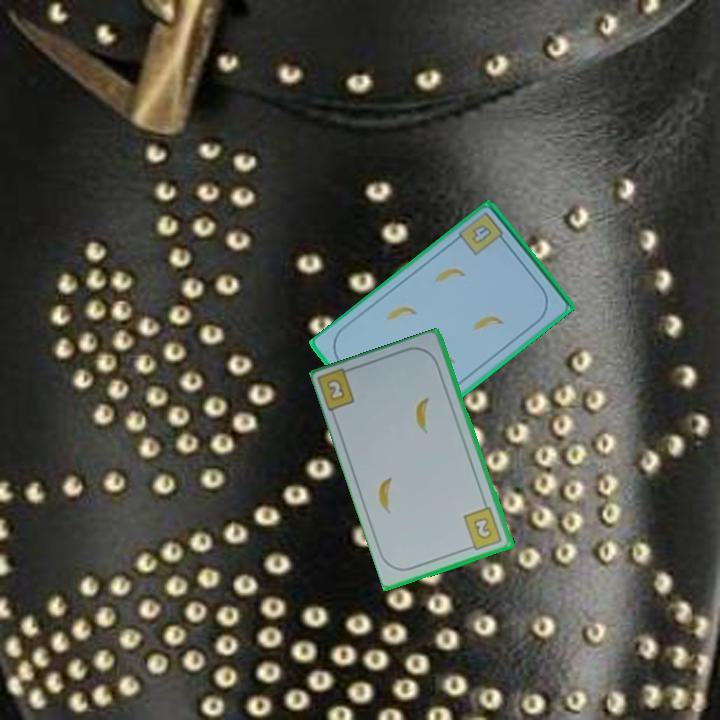2b: (460, 504, 505, 553), (323, 376, 348, 404)
4b: (468, 221, 495, 248)
